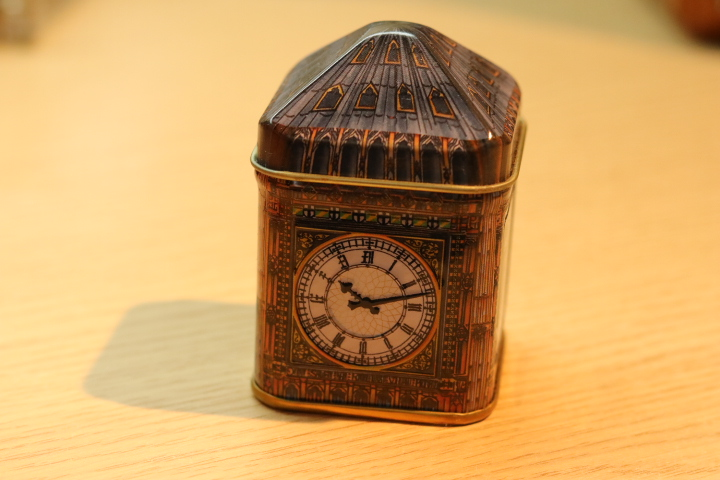Big Ben: (231, 7, 552, 446)
